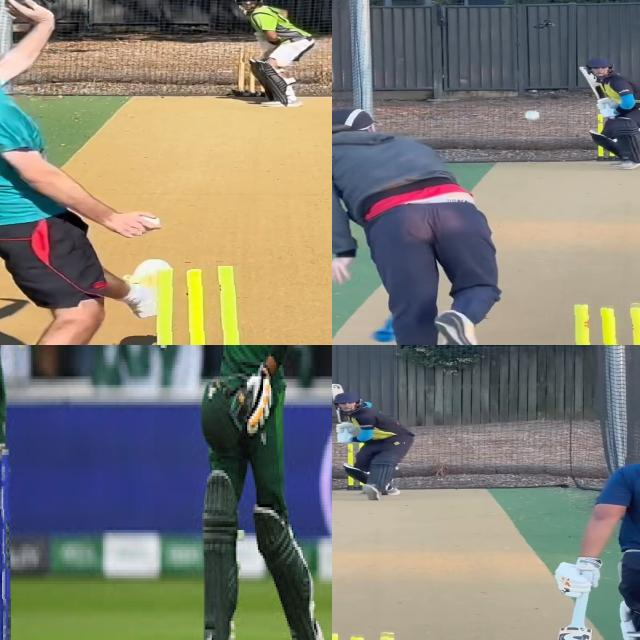Cricket ball: (523, 109, 541, 122)
Stumps: (133, 266, 263, 345), (564, 299, 640, 345), (0, 441, 11, 640), (239, 49, 265, 97)
